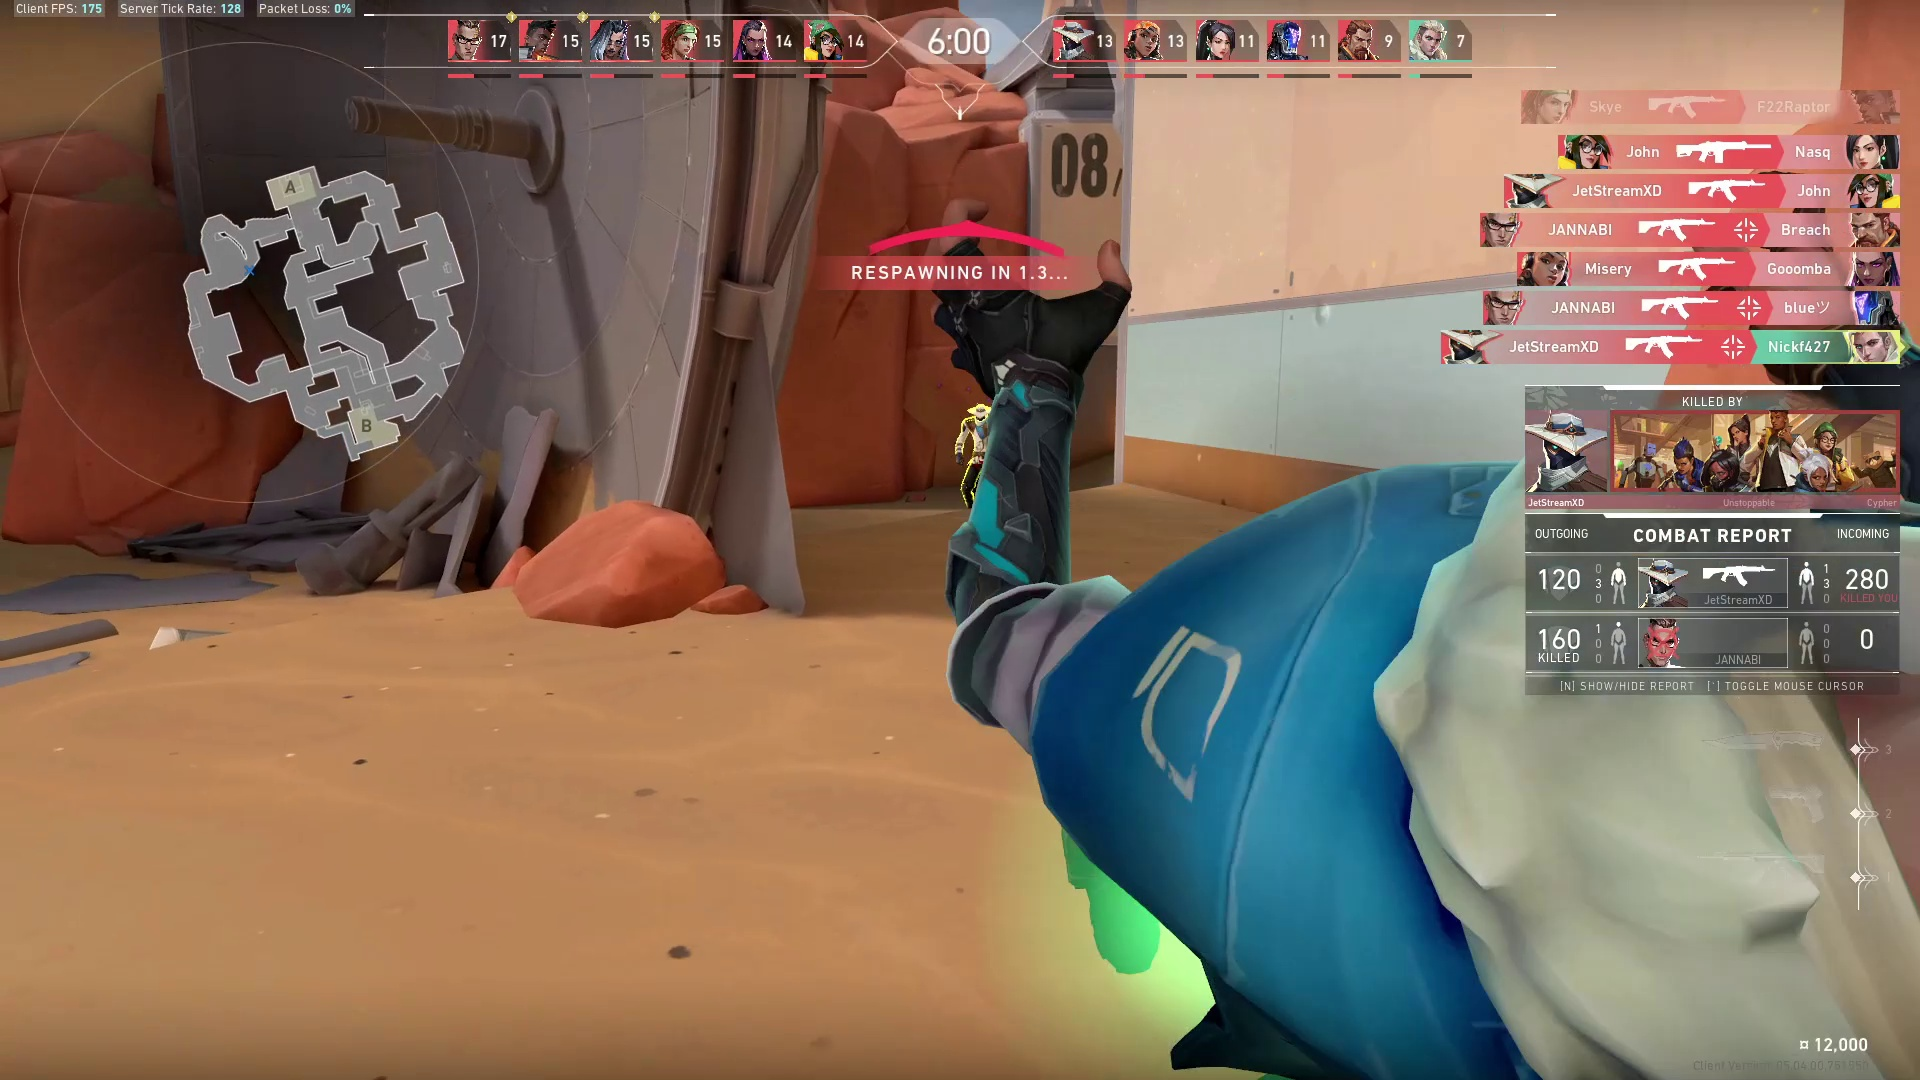enemy_body: (949, 422, 993, 509)
enemy_head: (957, 396, 996, 427)
